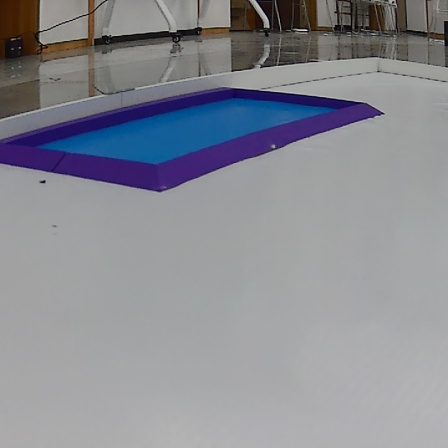blue_aim: (5, 86, 394, 190)
